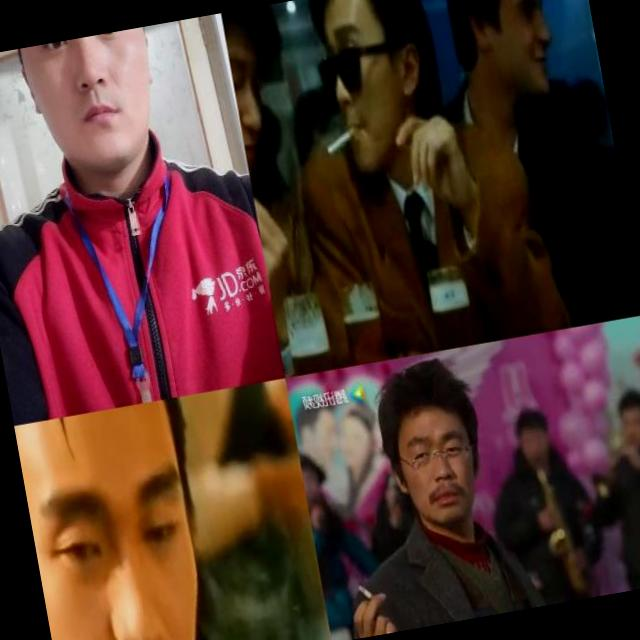smoke: (322, 124, 359, 156), (356, 580, 376, 603)
